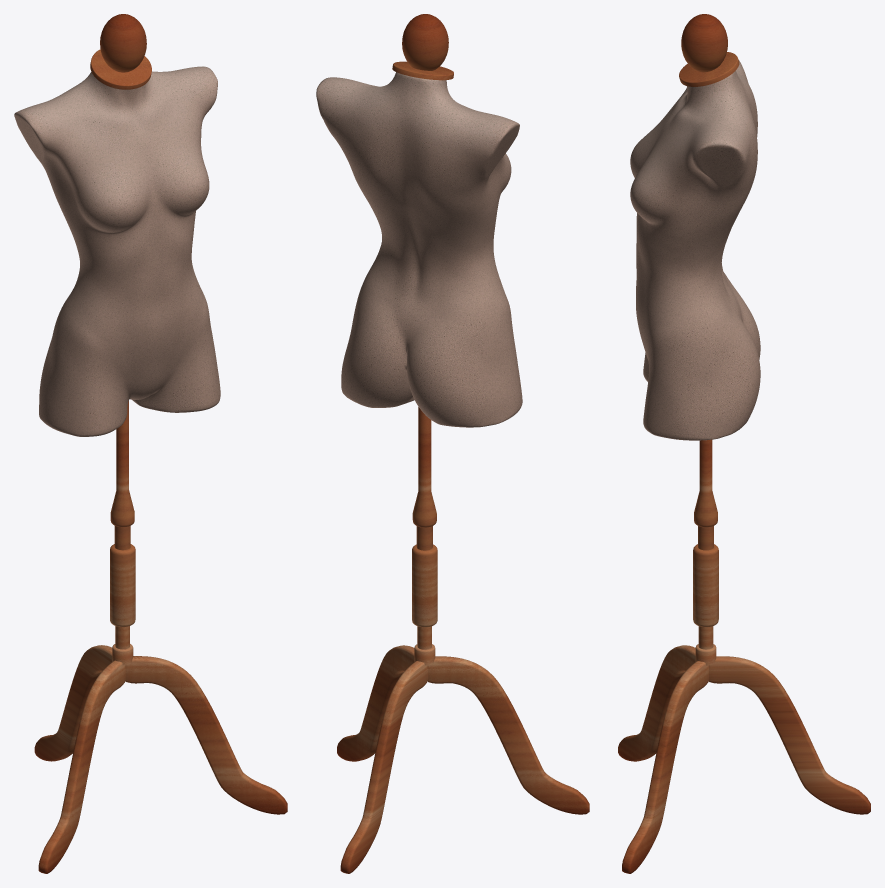
File: maniqui_vestido.glb
3 views of the same model, side by side, from view 1: azimuth 30°, elevation 25°; view 2: azimuth 150°, elevation 25°; view 3: azimuth 270°, elevation 25° (orthographic).
Visible parts, largest first — view 1: Dress Mannequin Pure_0, Dress Mannequin Stick_2; view 2: Dress Mannequin Pure_0, Dress Mannequin Stick_2; view 3: Dress Mannequin Pure_0, Dress Mannequin Stick_2.
Part boxes in pixels (box(x1,y1,x2,y2)): Dress Mannequin Pure_0: box(14, 66, 220, 436); Dress Mannequin Stick_2: box(34, 14, 287, 873); Dress Mannequin Pure_0: box(316, 72, 522, 427); Dress Mannequin Stick_2: box(337, 14, 589, 873); Dress Mannequin Pure_0: box(630, 60, 760, 440); Dress Mannequin Stick_2: box(618, 14, 870, 873).
Bounding box in the file's own units: 0.5501 × 1.68 × 0.4814.
3 materials, 3 textured.
